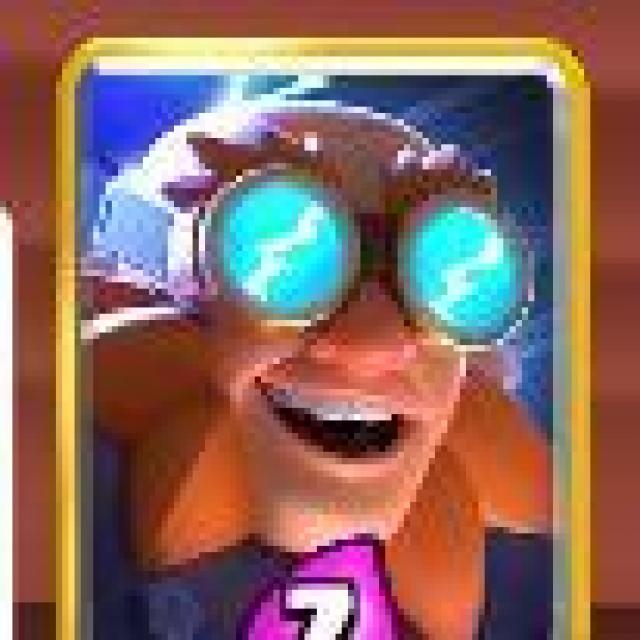Electro_Giant: (51, 32, 596, 640)
